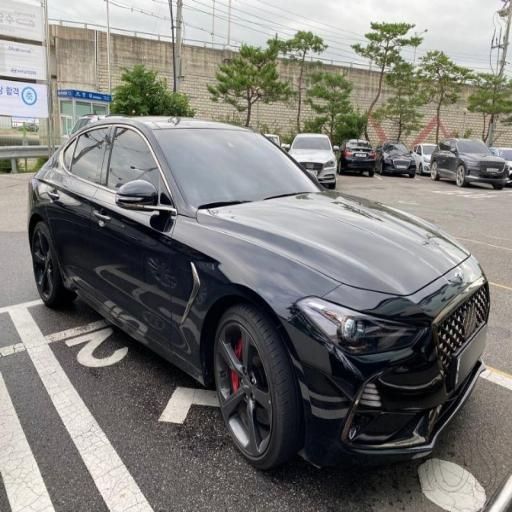dent: (83, 224, 215, 357)
scratch: (298, 328, 400, 471)
